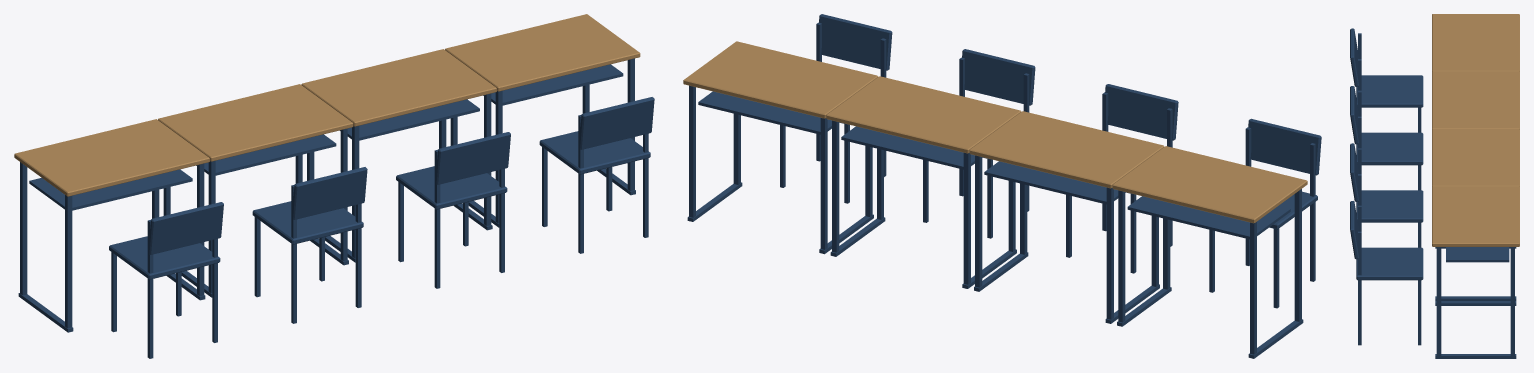
File: student_desks_c.glb
The picture shows the model from 3 angles, left to right: view 1: azimuth 30°, elevation 25°; view 2: azimuth 150°, elevation 25°; view 3: azimuth 270°, elevation 25°; orthographic projection. The views are drawn at different scales.
Parts seen in each view (by area): view 1: student_desks_c; view 2: student_desks_c; view 3: student_desks_c.
Boxes of the visible parts, <box> form: student_desks_c: <box>14,14,654,358</box>; student_desks_c: <box>683,14,1321,358</box>; student_desks_c: <box>1350,14,1519,358</box>.
Bounding box in the file's own units: 3.2 × 0.76 × 1.
